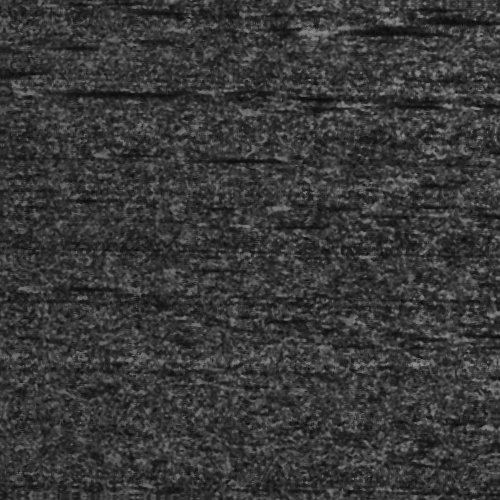object: (426, 95, 499, 104), (122, 153, 195, 162), (365, 7, 418, 18), (14, 90, 87, 97), (306, 22, 359, 27), (414, 326, 467, 331), (14, 286, 55, 291), (160, 266, 191, 269)
shadow: (392, 7, 486, 18), (51, 90, 164, 97), (159, 153, 221, 162), (35, 286, 109, 291), (462, 95, 500, 104), (333, 22, 401, 27), (440, 326, 493, 331), (176, 266, 239, 269)
